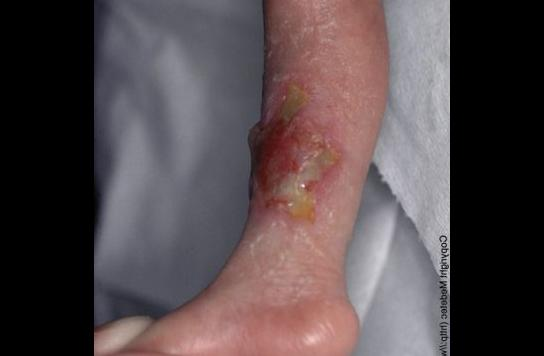NonPU: (248, 51, 353, 237)
